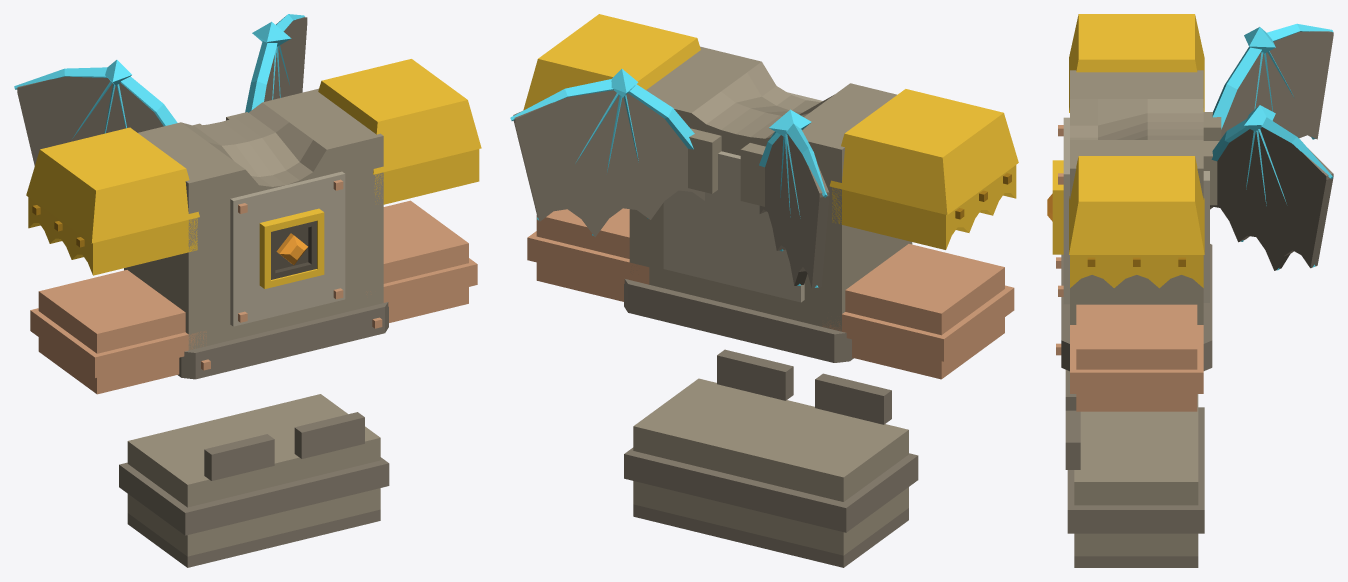
File: w3_armor_caverunner.fbx
The picture shows the model from 3 angles, left to right: view 1: azimuth 30°, elevation 25°; view 2: azimuth 150°, elevation 25°; view 3: azimuth 270°, elevation 25°; orthographic projection. The views are drawn at different scales.
Parts seen in each view (by area): view 1: CaveRunner.Chest, CaveRunner.PadR, CaveRunner.GloveR, CaveRunner.PadL, CaveRunner.ChestStone, CaveRunner.GloveL, CaveRunner.BootIronR, CaveRunner.BackWingR, CaveRunner.BootGoldR, CaveRunner.HipStone, CaveRunner.BootIronL, CaveRunner.BootGoldL (+10 smaller); view 2: CaveRunner.Chest, CaveRunner.PadR, CaveRunner.BackWingL, CaveRunner.GloveR, CaveRunner.ChestStone, CaveRunner.BootIronR, CaveRunner.BootIronL, CaveRunner.PadL, CaveRunner.BootGoldR, CaveRunner.HipStone, CaveRunner.GloveL, CaveRunner.BackWingR (+8 smaller); view 3: CaveRunner.PadL, CaveRunner.Chest, CaveRunner.GloveL, CaveRunner.BackWingL, CaveRunner.BootIronL, CaveRunner.PadR, CaveRunner.BackWingR, CaveRunner.BootGoldL, CaveRunner.WingRibs, CaveRunner.BootDiamondL, CaveRunner.BootIronR, CaveRunner.ChestStone (+6 smaller).
Part boxes in pixels (x1,y1,x2,y2): CaveRunner.Chest: (124,88,383,350); CaveRunner.PadR: (26,127,199,275); CaveRunner.GloveR: (30,270,206,394); CaveRunner.PadL: (318,59,481,204); CaveRunner.ChestStone: (230,171,345,326); CaveRunner.GloveL: (366,200,477,322); CaveRunner.BootIronR: (127,419,290,507); CaveRunner.BackWingR: (17,76,163,165); CaveRunner.BootGoldR: (119,462,298,567); CaveRunner.HipStone: (178,302,388,379); CaveRunner.BootIronL: (218,394,380,482); CaveRunner.BootGoldL: (274,457,389,542); CaveRunner.Chest: (629,46,912,331); CaveRunner.PadR: (829,89,1018,249); CaveRunner.BackWingL: (513,90,704,237); CaveRunner.GloveR: (822,244,1014,379); CaveRunner.ChestStone: (663,92,822,302); CaveRunner.BootIronR: (731,404,908,501); CaveRunner.BootIronL: (633,378,810,476); CaveRunner.PadL: (523,14,700,110); CaveRunner.BootGoldR: (722,453,918,567); CaveRunner.HipStone: (624,279,853,362); CaveRunner.GloveL: (527,208,649,301); CaveRunner.BackWingR: (759,134,829,288); CaveRunner.PadL: (1069,156,1204,288); CaveRunner.Chest: (1070,70,1203,324); CaveRunner.GloveL: (1070,304,1203,411); CaveRunner.BackWingL: (1210,127,1333,270); CaveRunner.BootIronL: (1074,430,1198,505); CaveRunner.PadR: (1069,14,1204,112); CaveRunner.BackWingR: (1221,31,1333,139); CaveRunner.BootGoldL: (1067,464,1204,567); CaveRunner.WingRibs: (1211,23,1333,270); CaveRunner.BootDiamondL: (1074,533,1198,556); CaveRunner.BootIronR: (1080,394,1198,436); CaveRunner.ChestStone: (1063,117,1209,304).
Size of the model in its own units: 4.38 by 4.64 by 2.66.
